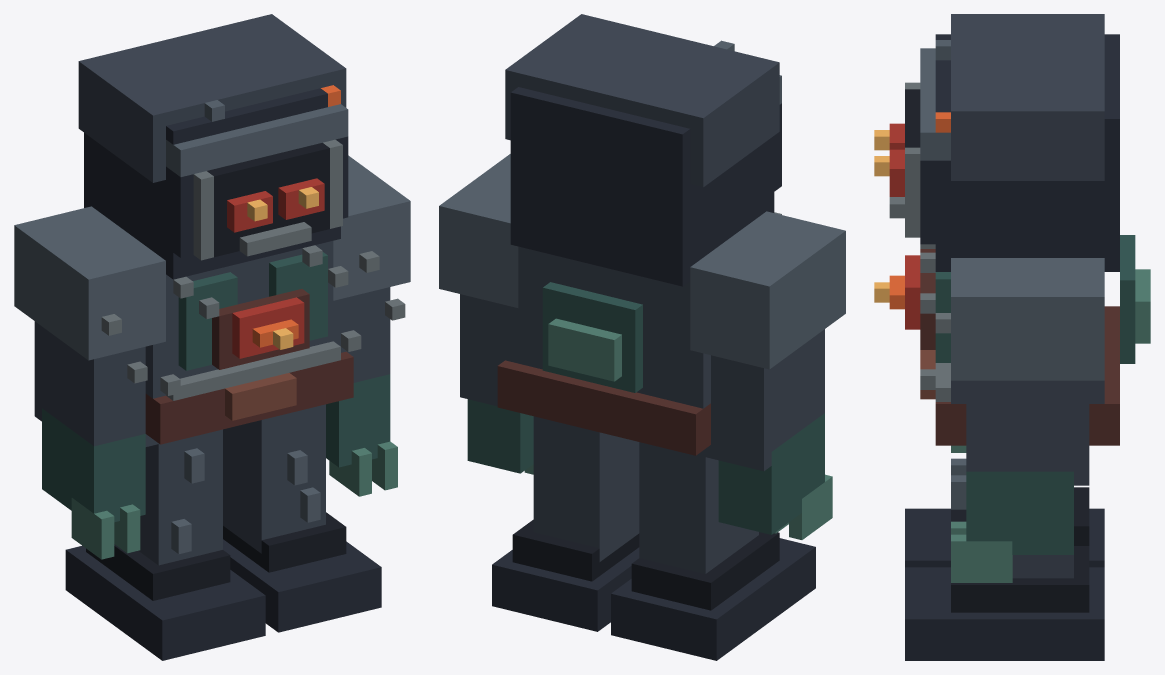
Rendered from ember_stalker.obj.
3 renders of one model, left to right at view 1: azimuth 30°, elevation 25°; view 2: azimuth 150°, elevation 25°; view 3: azimuth 270°, elevation 25°, orthographic. The views are drawn at different scales.
Bounding box in the file's own units: 1.25 × 1.95 × 0.9.
1 material, 1 textured.
